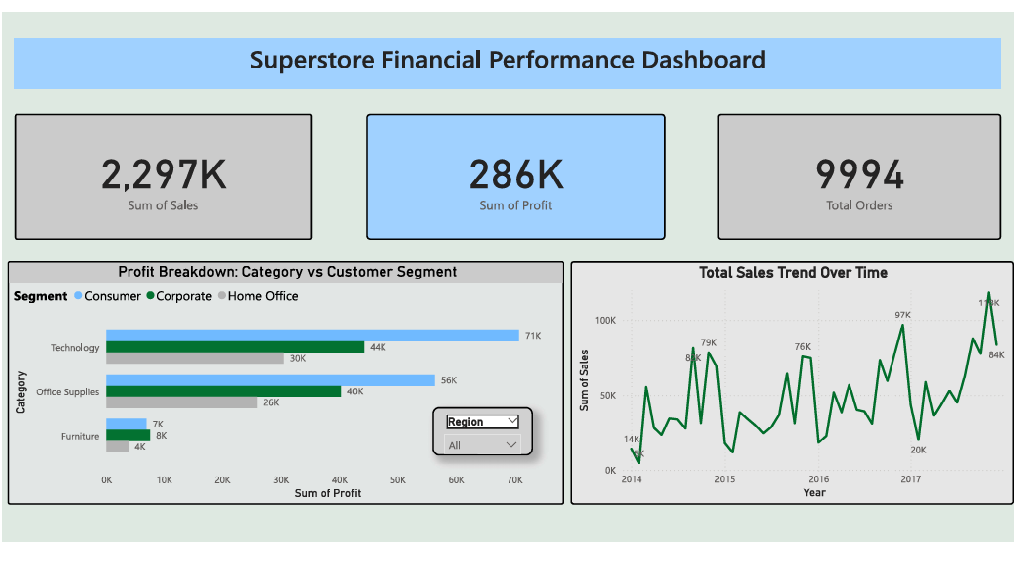

This screenshot's page, from the dashboard's own definition file:
{"tool":"powerbi","page":{"name":"Page 1","canvas":[1280,720],"ordinal":0},"visuals":[{"type":"clusteredBarChart","title":"Profit Breakdown: Category vs Customer Segment","fields":{"Series":["superstore_cleaned.Segment"],"Y":["Sum(superstore_cleaned.Profit)"],"Category":["superstore_cleaned.Category"]},"box":[7.3,337.5,704.2,331.2],"z":0},{"type":"slicer","fields":{"Values":["superstore_cleaned.Region"]},"box":[543.8,536.5,128.1,65.6],"z":1},{"type":"card","fields":{"Values":["Sum(superstore_cleaned.Sales)"]},"box":[15.6,137.5,376,171.9],"z":2},{"type":"card","fields":{"Values":["Sum(superstore_cleaned.Profit)"]},"box":[460.4,137.5,379.2,171.9],"z":3},{"type":"card","fields":{"Values":["superstore_cleaned.Total Orders"]},"box":[905.2,137.5,358.3,171.9],"z":4},{"type":"lineChart","title":"Total Sales Trend Over Time","fields":{"Y":["Sum(superstore_cleaned.Sales)"],"Category":["superstore_cleaned.Order Date.Variation.Date Hierarchy.Year","superstore_cleaned.Order Date.Variation.Date Hierarchy.Month"]},"box":[718.8,337.5,561.5,331.2],"z":5},{"type":"textbox","box":[15.6,36.5,1247.9,67.7],"z":6}]}

Visuals, with their boxes in screenshot pixels (x1, y1, x2, y2), scaled from the page's 1280x720 canvas onto the 1024x576 screenshot:
"Profit Breakdown: Category vs Customer Segment" clusteredBarChart: crop(6, 270, 569, 535)
slicer - superstore_cleaned.Region: crop(435, 429, 538, 482)
card - Sum(superstore_cleaned.Sales): crop(12, 110, 313, 248)
card - Sum(superstore_cleaned.Profit): crop(368, 110, 672, 248)
card - superstore_cleaned.Total Orders: crop(724, 110, 1011, 248)
"Total Sales Trend Over Time" lineChart: crop(575, 270, 1023, 535)
textbox: crop(12, 29, 1011, 83)
